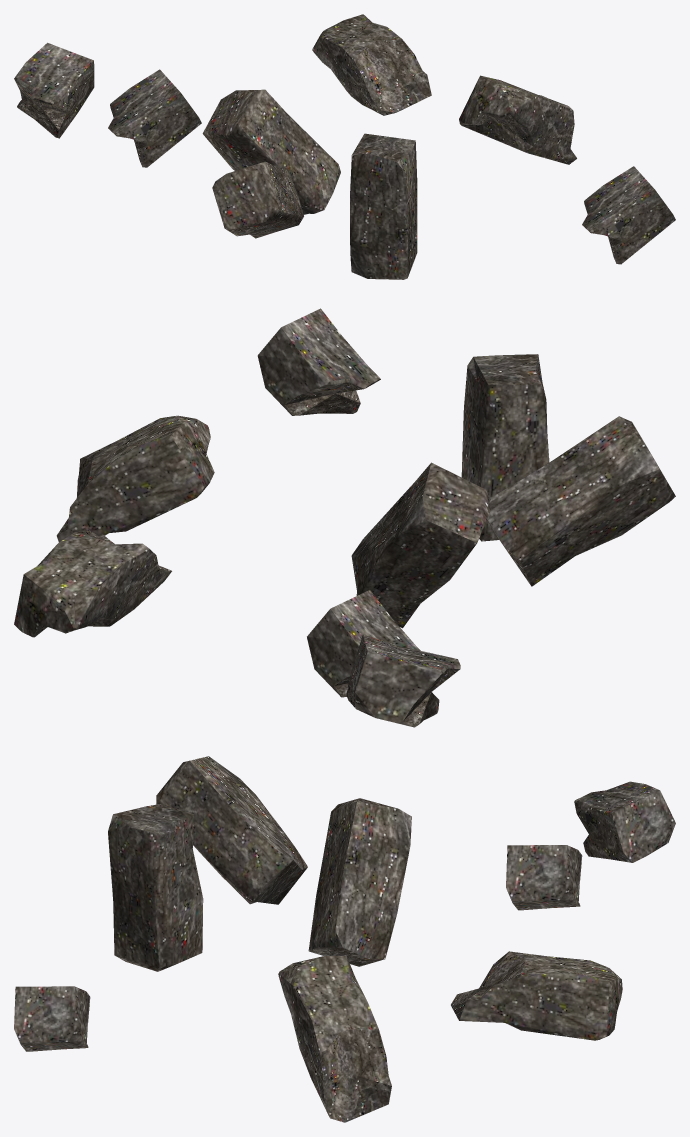
The model's file is o_mdl_env_propRuinsBrickPileB-transformed.glb.
3 renders of one model, top to bottom at view 1: azimuth 30°, elevation 25°; view 2: azimuth 150°, elevation 25°; view 3: azimuth 270°, elevation 25°, orthographic. The views are drawn at different scales.
Visible parts, largest first — view 1: default; view 2: default; view 3: default.
Part boxes in pixels (<box>): default: <box>14,14,675,279</box>; default: <box>14,308,675,727</box>; default: <box>14,756,675,1122</box>.
Size of the model in its own units: 2.9 by 0.9145 by 3.43.
1 material, 1 textured.
